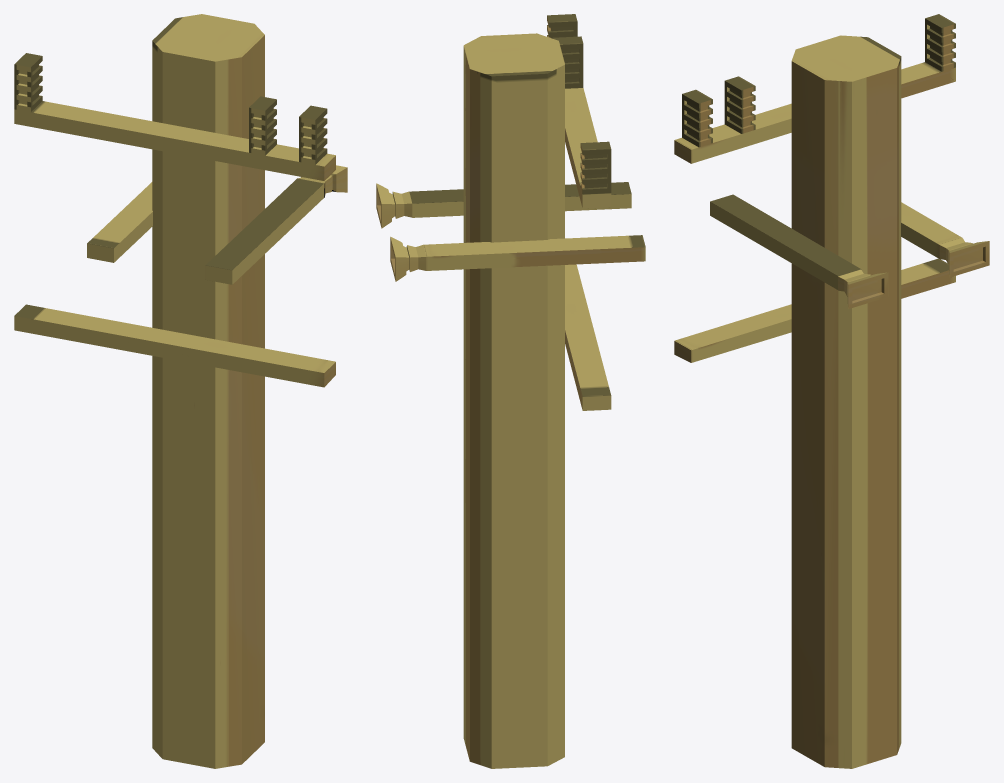
The model's file is Storm Village_BrokenElectric_Pole.fbx.
3 renders of one model, left to right at view 1: azimuth 30°, elevation 25°; view 2: azimuth 150°, elevation 25°; view 3: azimuth 270°, elevation 25°, orthographic. The views are drawn at different scales.
Visible parts, largest first — view 1: Cube.020, Cube.010, Cube.021; view 2: Cube.020, Cube.010, Cube.021; view 3: Cube.010, Cube.020, Cube.021.
Boxes of the visible parts, x1,y1,x2,y2 form: Cube.020: [14, 53, 347, 387]; Cube.010: [152, 329, 335, 768]; Cube.021: [152, 14, 264, 114]; Cube.020: [376, 14, 645, 410]; Cube.010: [463, 330, 582, 768]; Cube.021: [463, 33, 564, 139]; Cube.010: [674, 270, 955, 768]; Cube.020: [674, 14, 989, 391]; Cube.021: [791, 35, 901, 139].
Bounding box in the file's own units: 651 × 1534 × 638.
